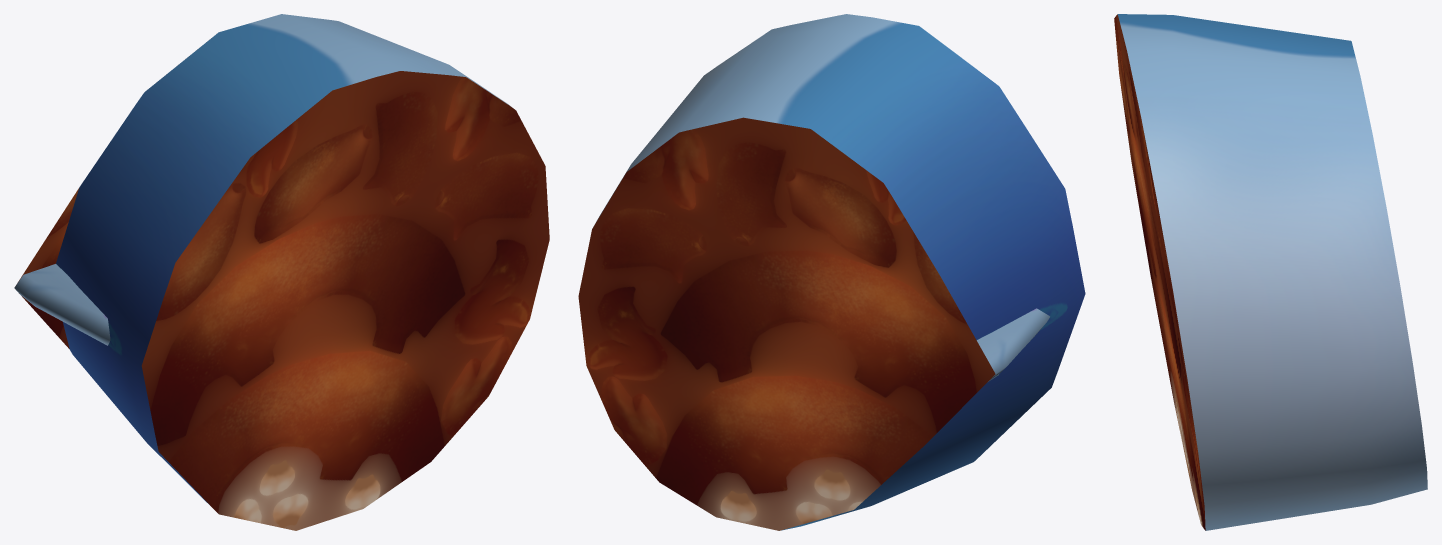
File: fish04.fbx
The picture shows the model from 3 angles, left to right: view 1: azimuth 30°, elevation 25°; view 2: azimuth 150°, elevation 25°; view 3: azimuth 270°, elevation 25°; orthographic projection. The views are drawn at different scales.
Parts seen in each view (by area): view 1: fish04; view 2: fish04; view 3: fish04.
Boxes of the visible parts, x1,y1,x2,y2 form: fish04: [14, 14, 549, 530]; fish04: [578, 14, 1085, 530]; fish04: [1114, 14, 1427, 530].
Bounding box in the file's own units: 0.1854 × 0.1832 × 0.1093.
